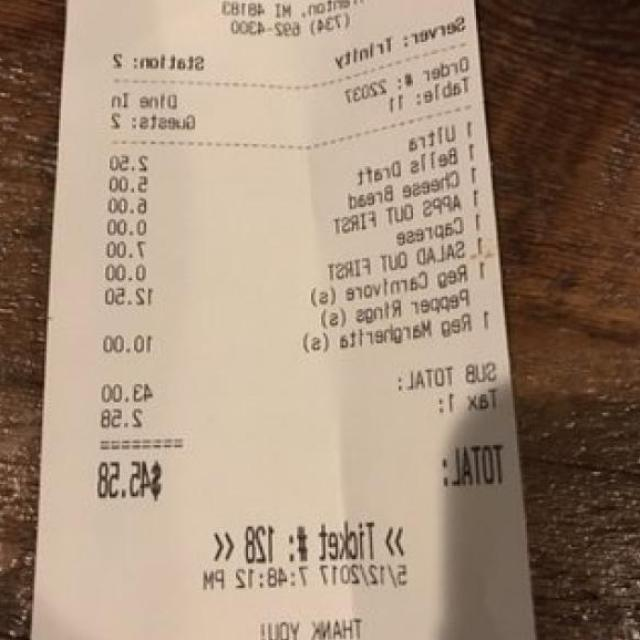kertas: (32, 0, 535, 640)
